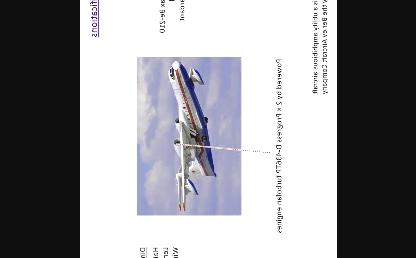B52: (166, 61, 216, 212)
